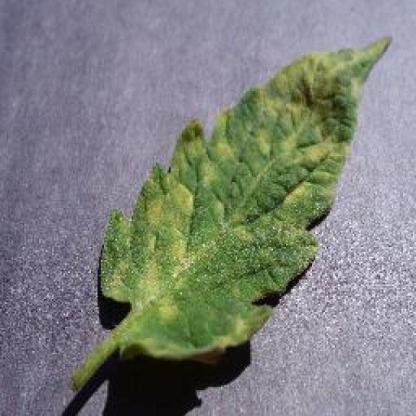Tomato_Leaf_Mold: (101, 36, 393, 356)
